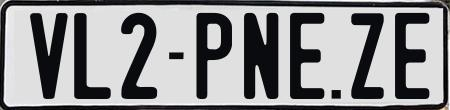2: (120, 12, 161, 101)
E: (288, 10, 328, 96), (392, 13, 431, 99)
L: (73, 11, 115, 102)
N: (241, 10, 278, 102)
P: (193, 12, 229, 102)
V: (28, 12, 71, 100)
Z: (348, 10, 384, 97)
